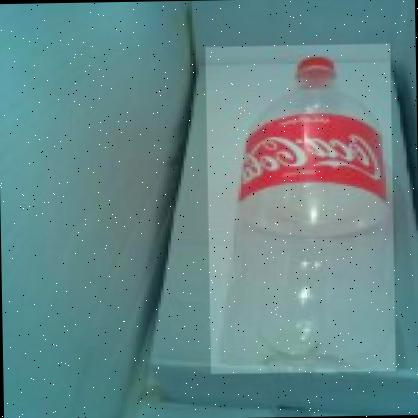bottle: (204, 44, 395, 374)
cap: (287, 52, 339, 74)
label: (237, 125, 384, 201)
